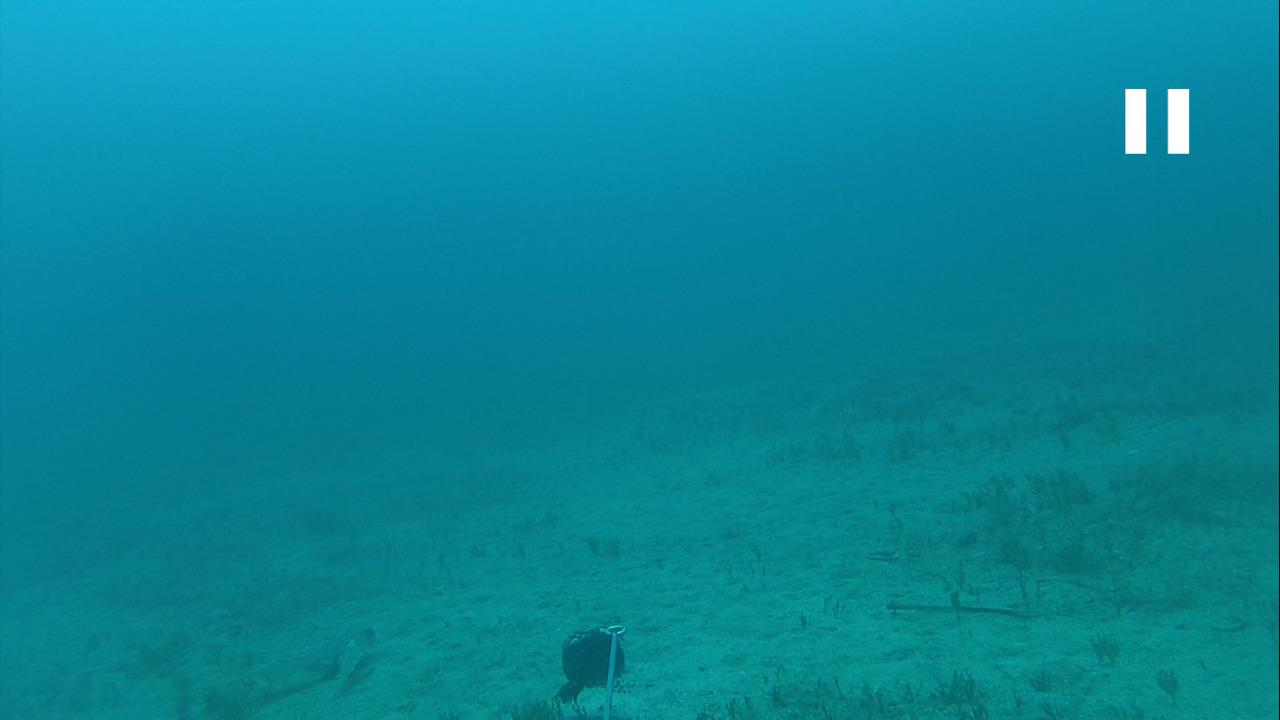dactylopterus: (208, 616, 389, 706)
